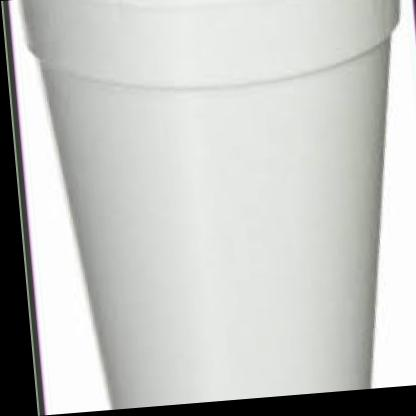Plastic: (11, 0, 416, 415)
